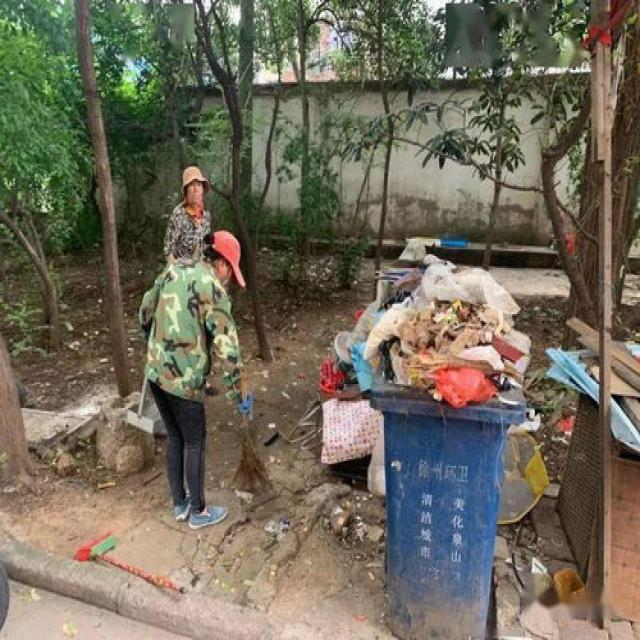overflow: (346, 236, 528, 638)
